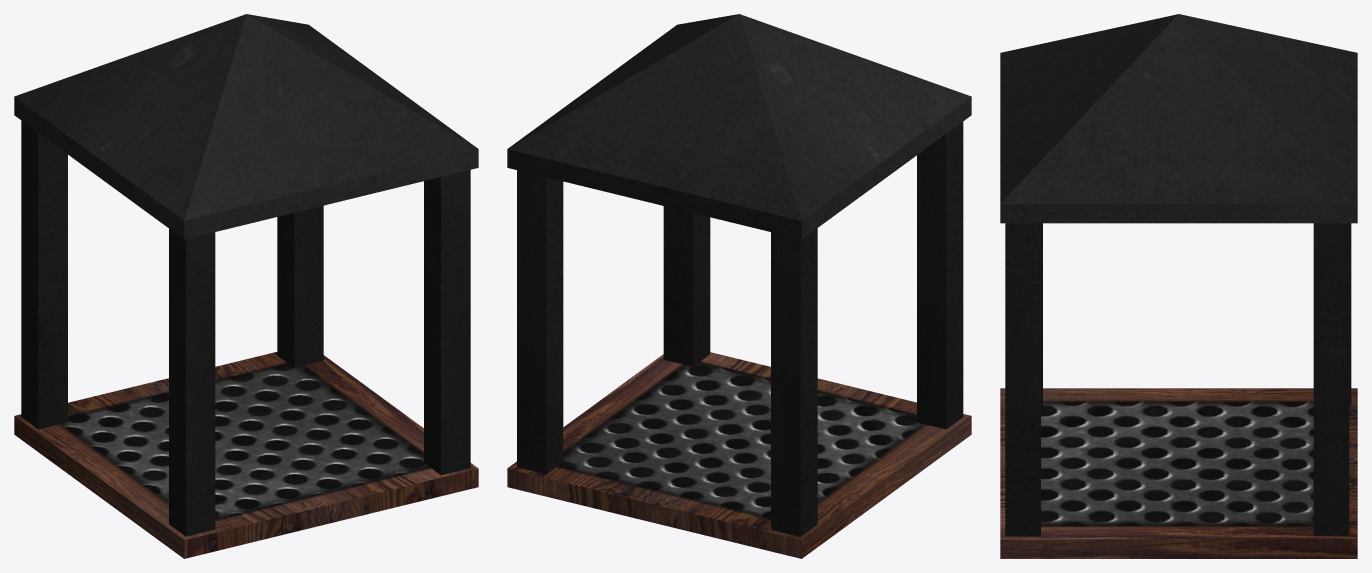
Rendered from ShackFlue.fbx.
The picture shows the model from 3 angles, left to right: view 1: azimuth 30°, elevation 25°; view 2: azimuth 150°, elevation 25°; view 3: azimuth 270°, elevation 25°; orthographic projection. The views are drawn at different scales.
Visible parts, largest first — view 1: ShackFlue; view 2: ShackFlue; view 3: ShackFlue.
Part boxes in pixels (<box>): ShackFlue: <box>14,14,478,558</box>; ShackFlue: <box>507,14,971,558</box>; ShackFlue: <box>1000,14,1357,558</box>.
Size of the model in its own units: 50 by 72.48 by 50.
